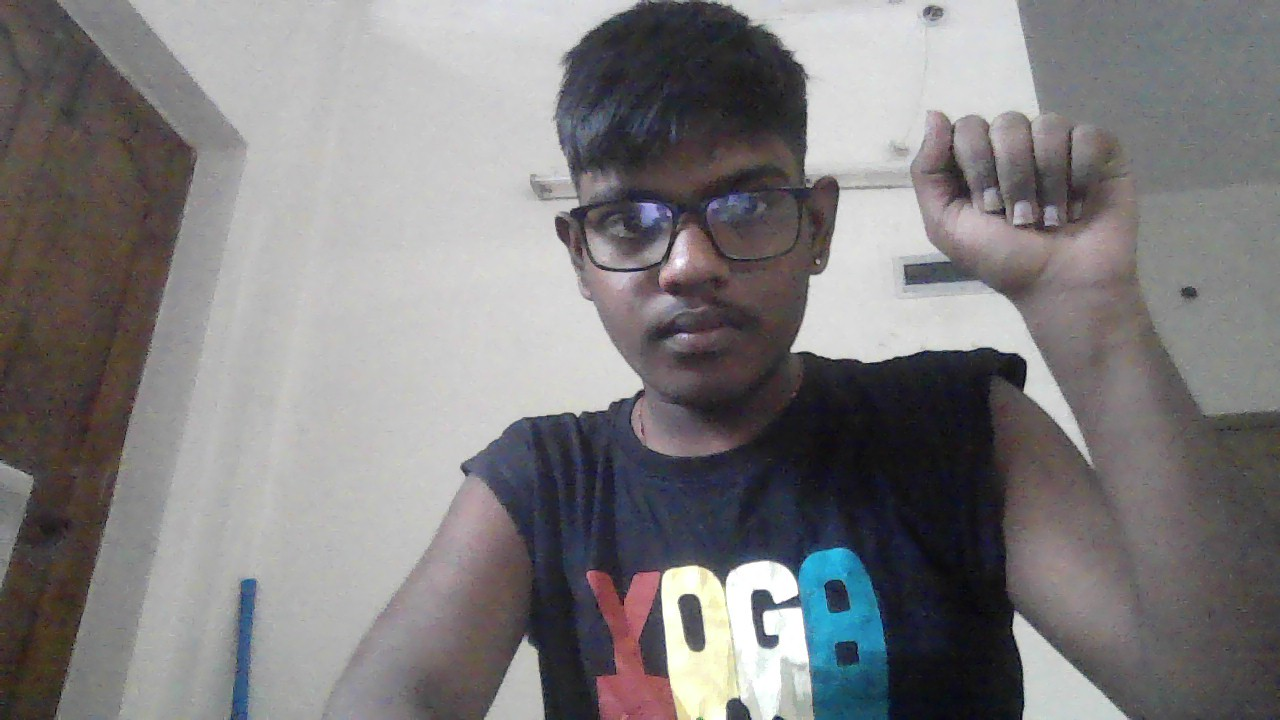A: (909, 107, 1141, 314)
